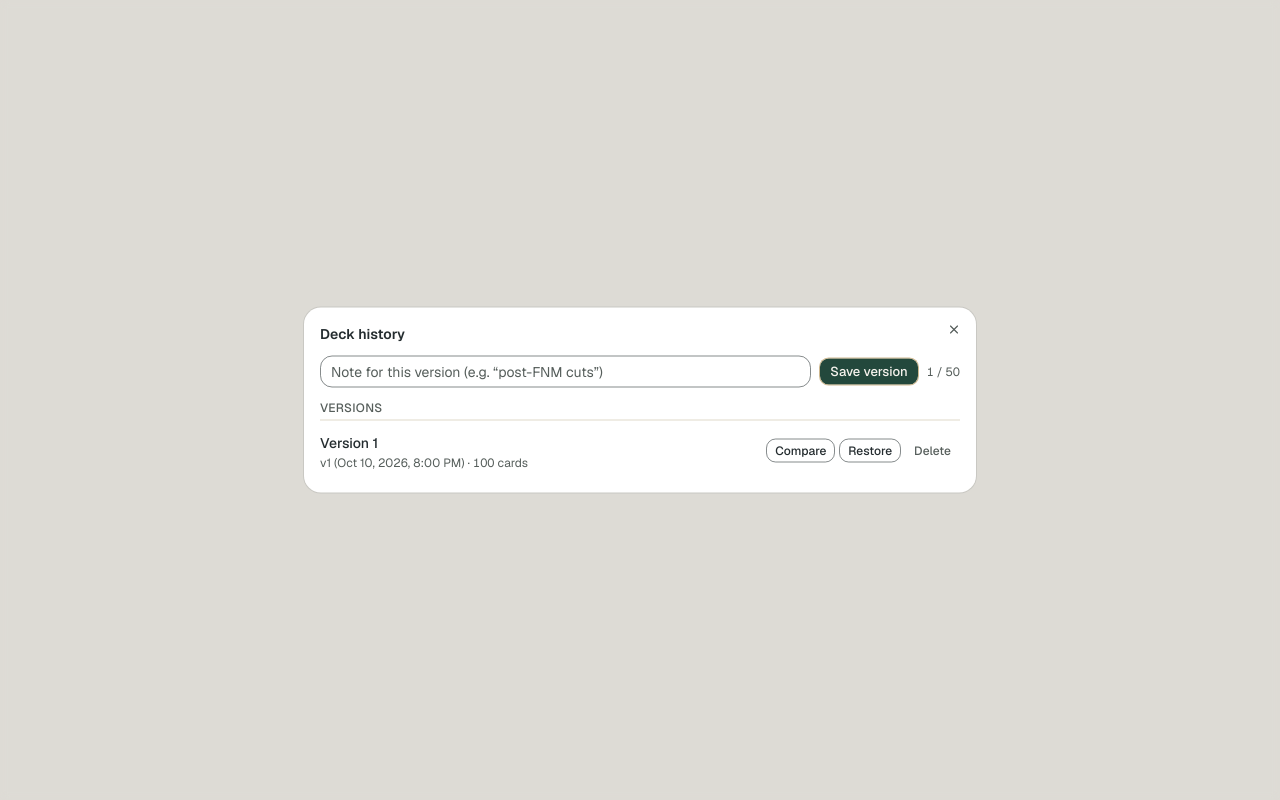
Test: HistoryDialog — Save version › the route's 409 is said in its own words
Expected: the dialog "Deck history" shows "1 / 50", [304,308,976,492]
Step 1. Click the button "Save version" → {"x": 869, "y": 372}, box [819,358,919,386]
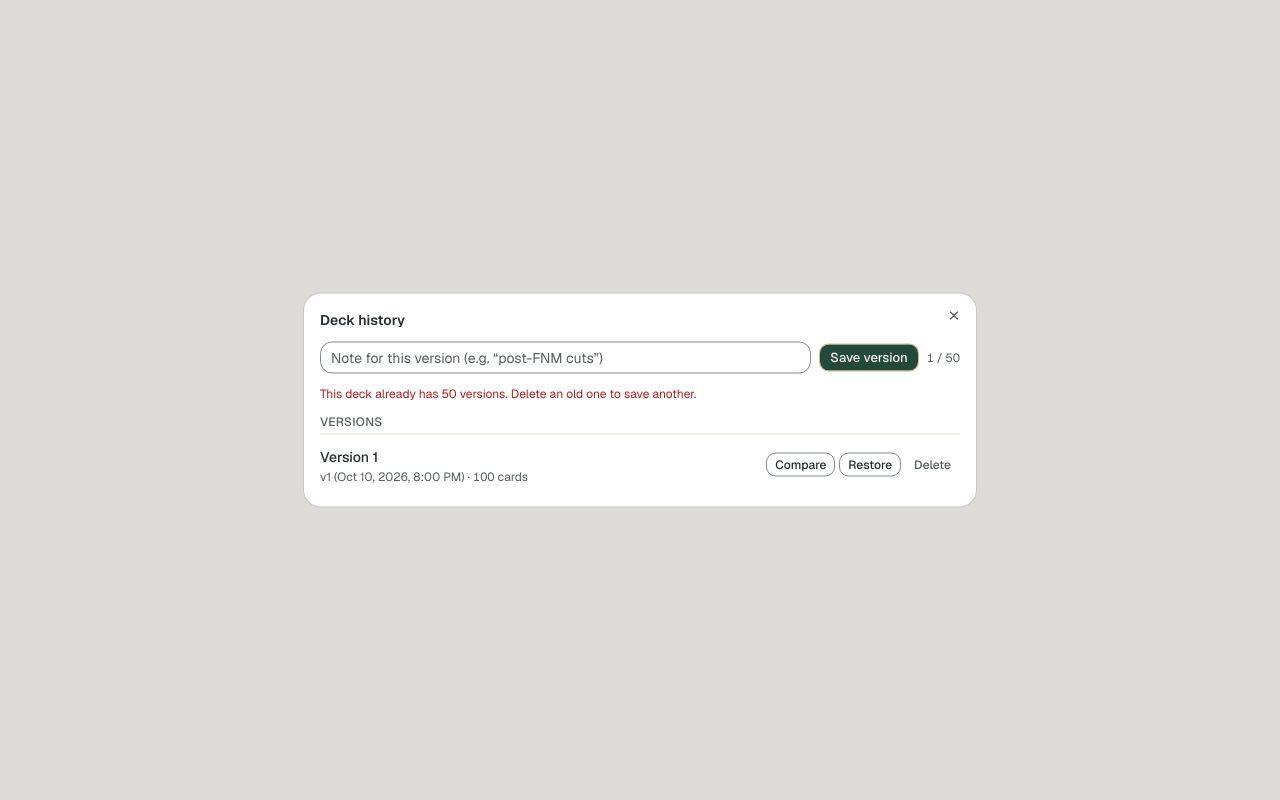
Expected: the dialog "Deck history" shows "This deck already has 50 versions. Delete an old one to save another.", [320,386,696,402]
